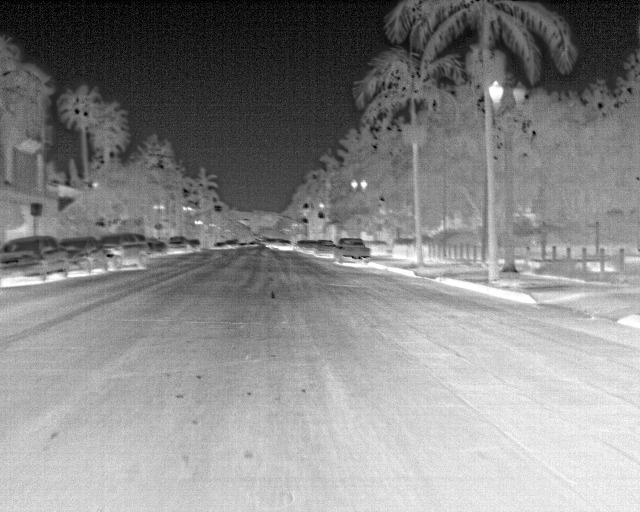bicycle: (0, 235, 68, 282), (99, 232, 150, 270), (58, 236, 108, 274), (335, 237, 371, 266), (165, 236, 188, 255), (315, 239, 336, 257), (274, 239, 294, 253), (187, 238, 202, 255)
